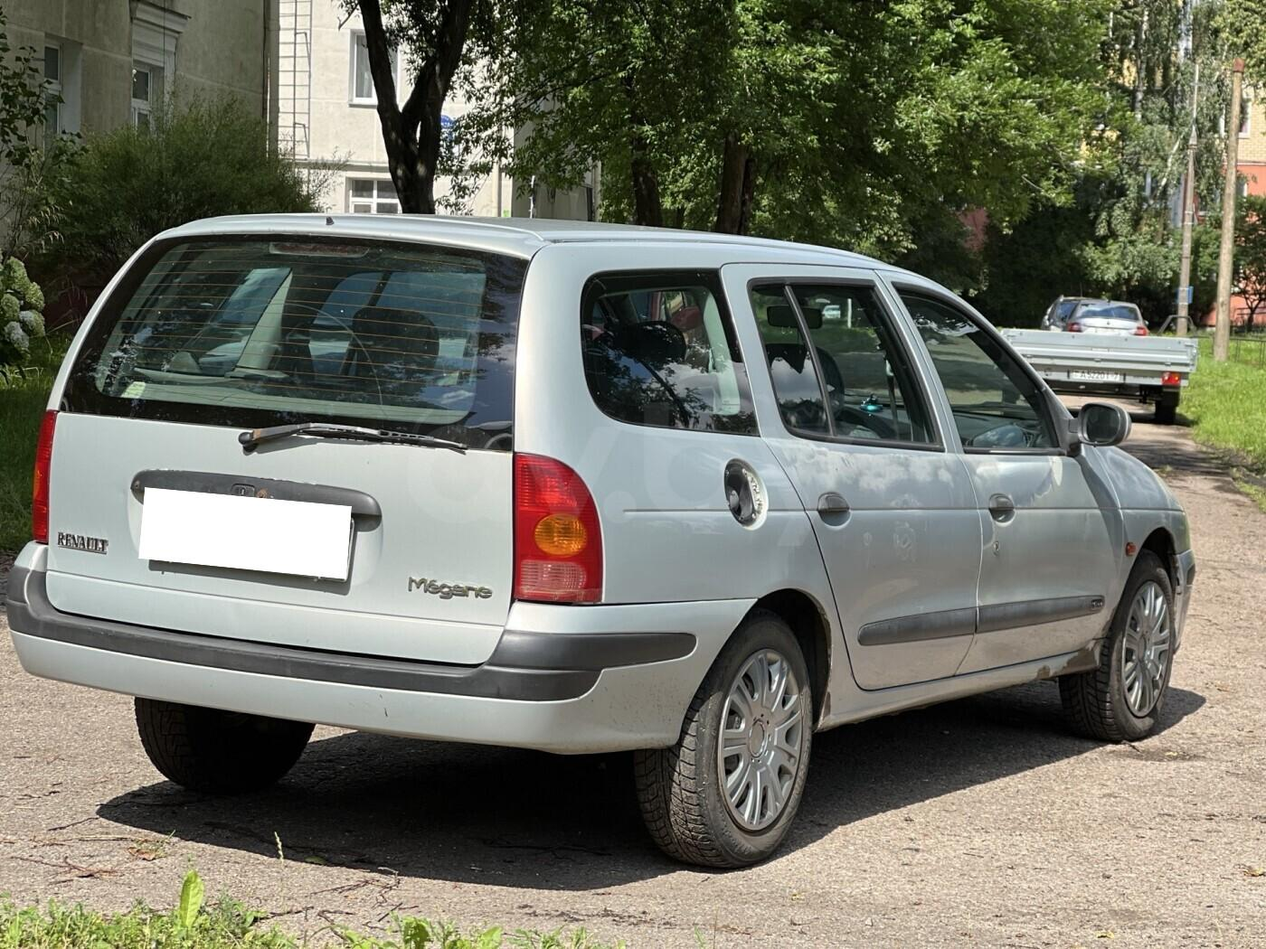Megane_1999-2003: (3, 196, 1196, 853)
